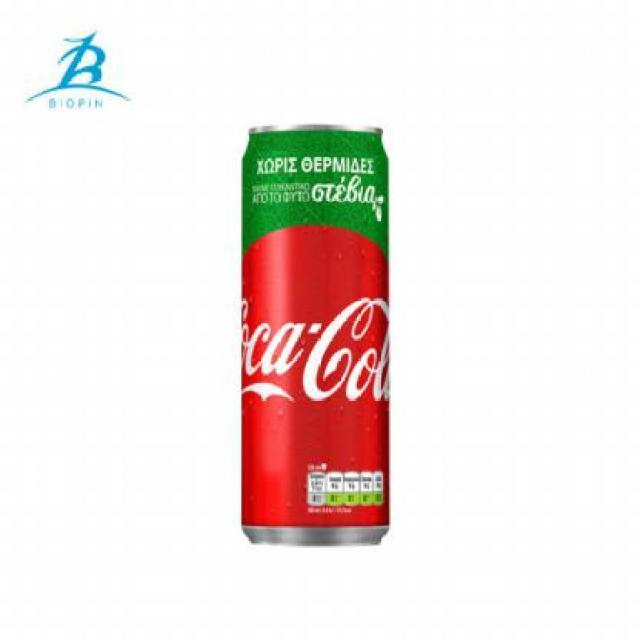can: (229, 91, 405, 577)
